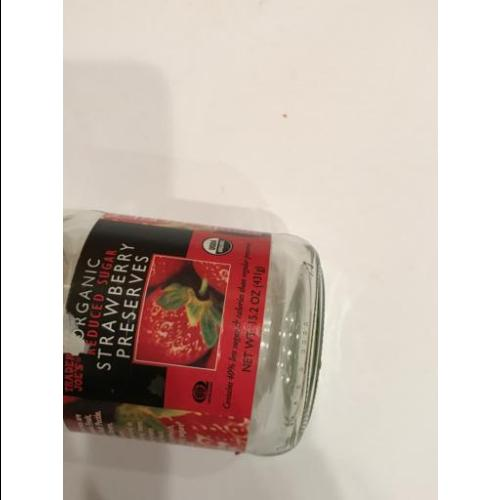glass: (66, 211, 321, 452)
